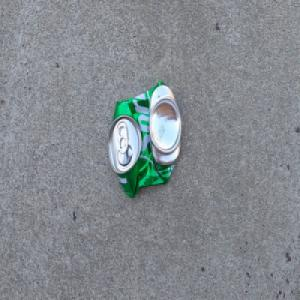SodaCan: (107, 80, 183, 201)
